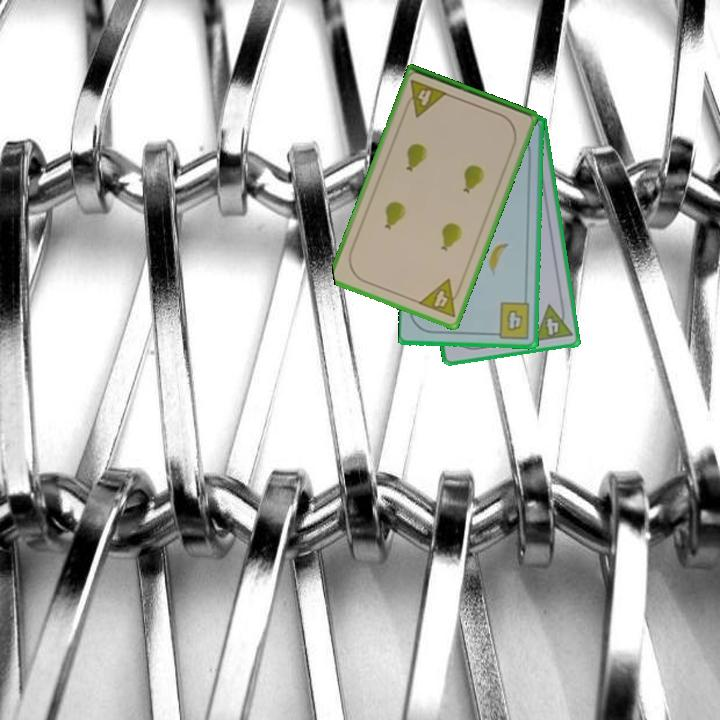4b: (489, 299, 533, 341)
4p: (415, 275, 465, 321), (400, 76, 450, 120), (531, 299, 575, 344)
